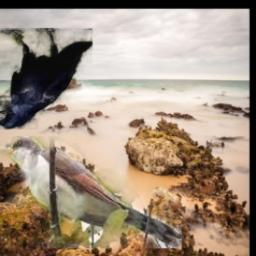Crow: (0, 29, 93, 130)
Cuckoo: (0, 136, 182, 248)
